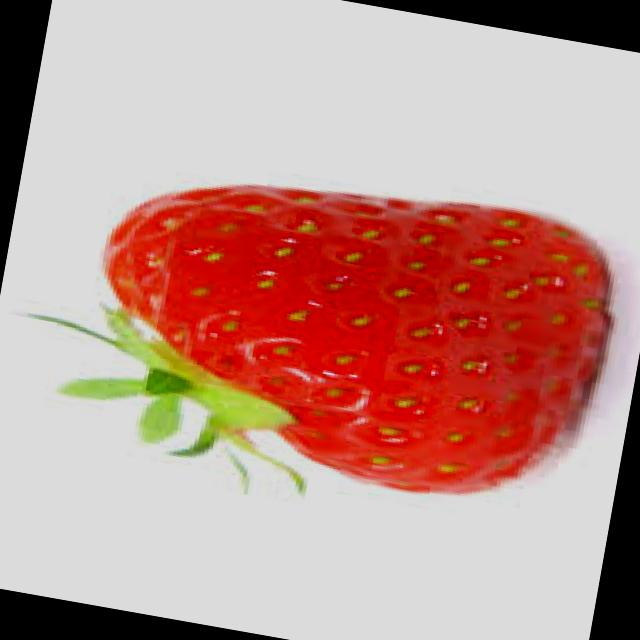strawberry: (26, 117, 630, 541)
